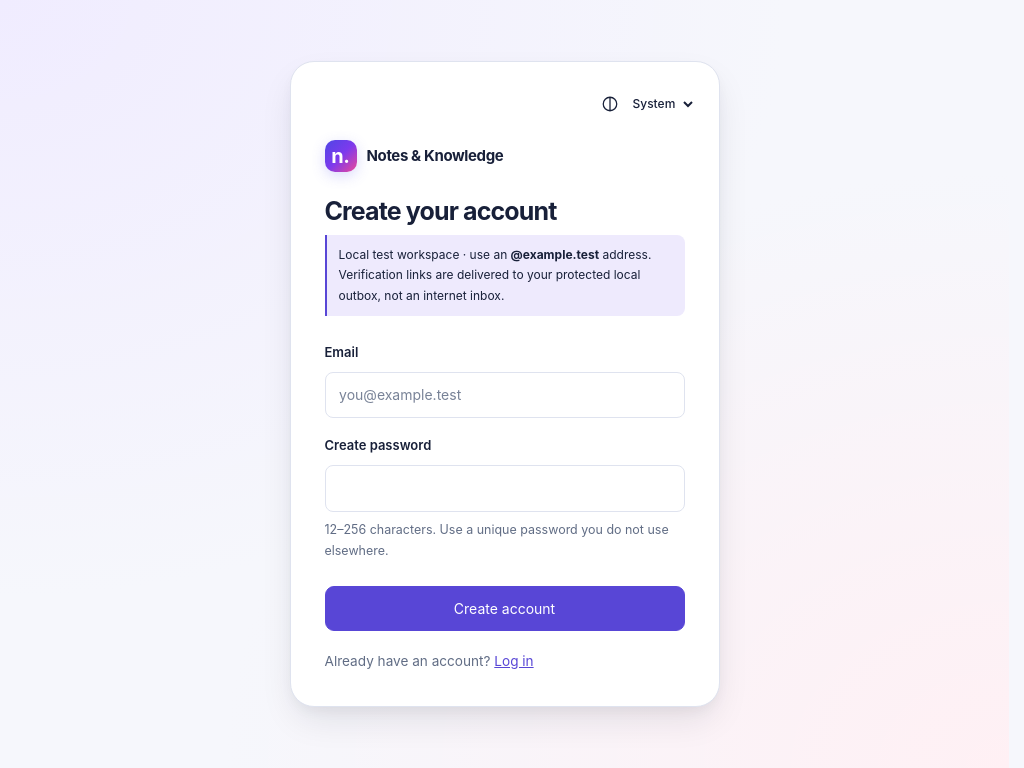
authentication browser journey › rejects unsupported local delivery addresses before blind acceptance and keeps valid local acceptance generic
Expected: the heading "Create your account" is shown, [324,196,556,226]
Type "person@example.org" into the field labelled "Email" at x=504, y=395, box [324,372,684,418]
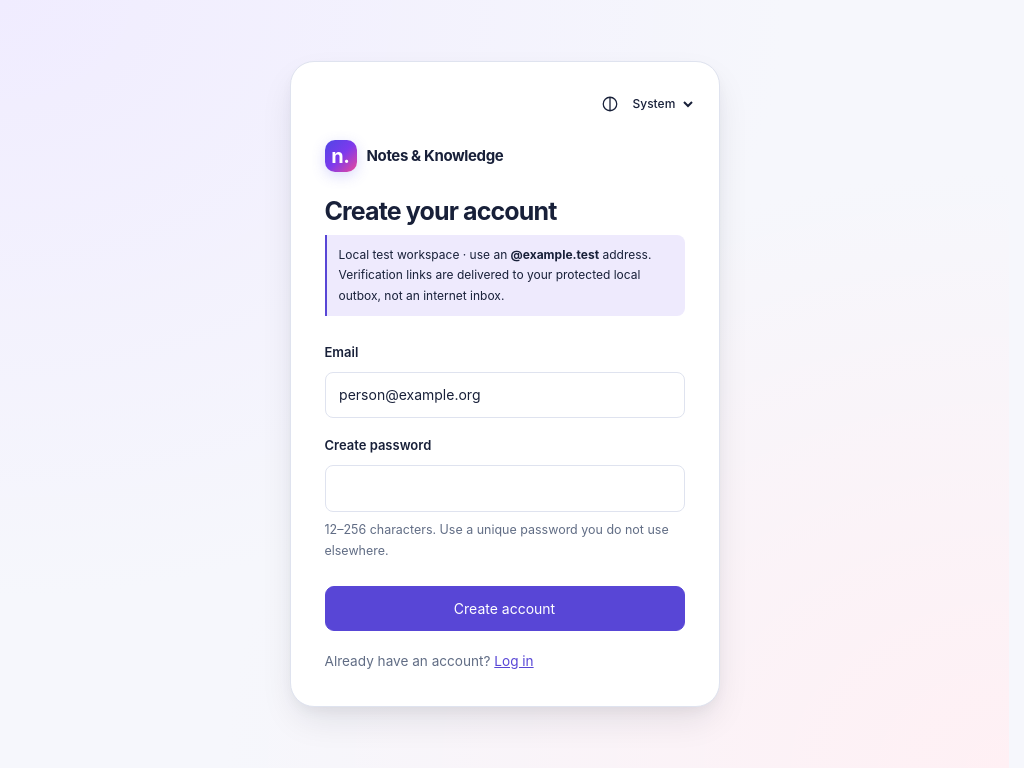
Type "Synthetic-password-123!" into the password field labelled "Create password" at x=504, y=488, box [324,465,684,512]
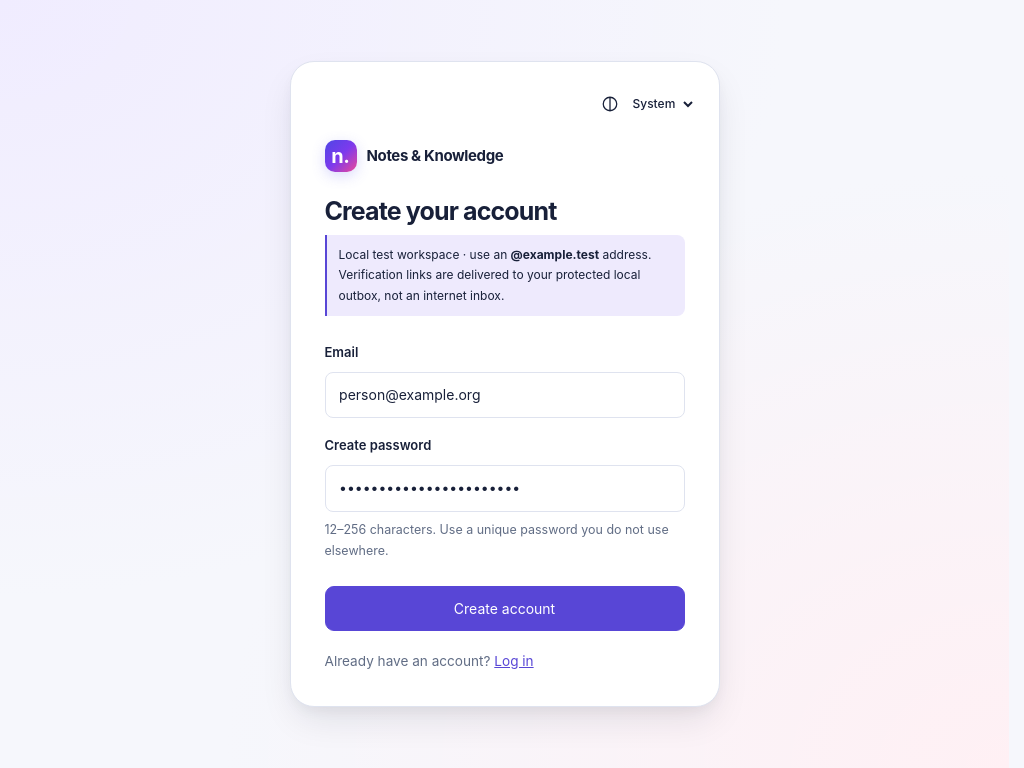
Click the button "Create account" at x=504, y=609, box [324,586,684,632]
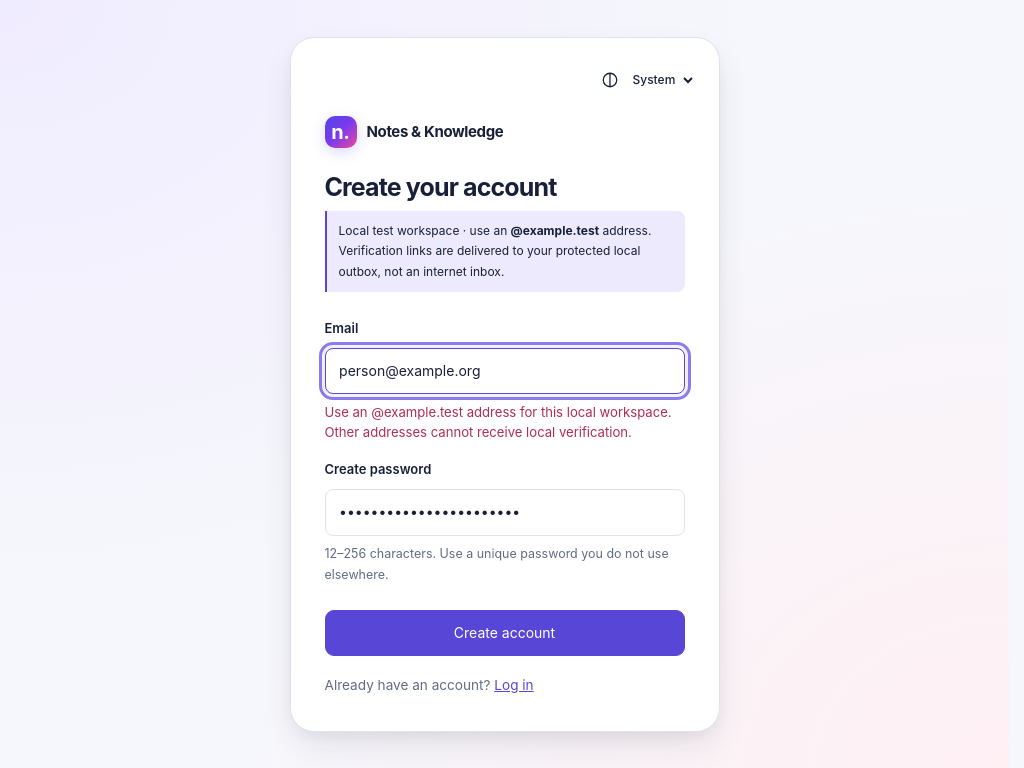
Expected: the text "Other addresses cannot receive local verification" is shown, [324,404,672,440]
Replace the text in the field labelled "Email" with "person@example.test" at x=504, y=371, box [324,348,684,394]
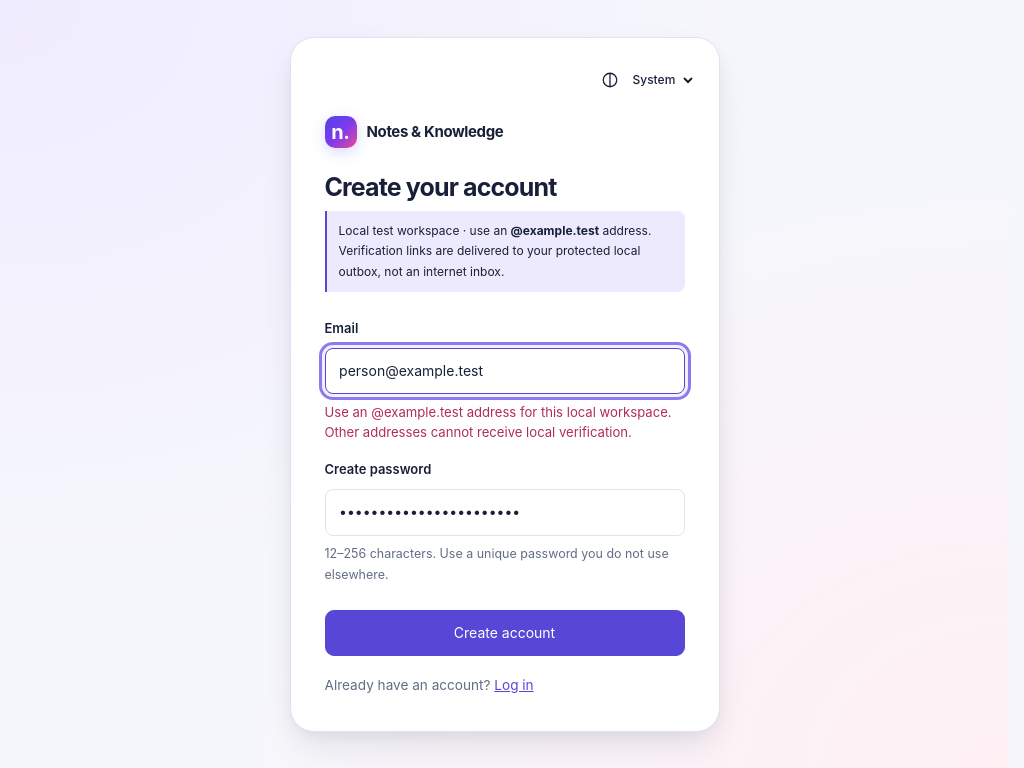
Click the button "Create account" at x=504, y=633, box [324,610,684,656]
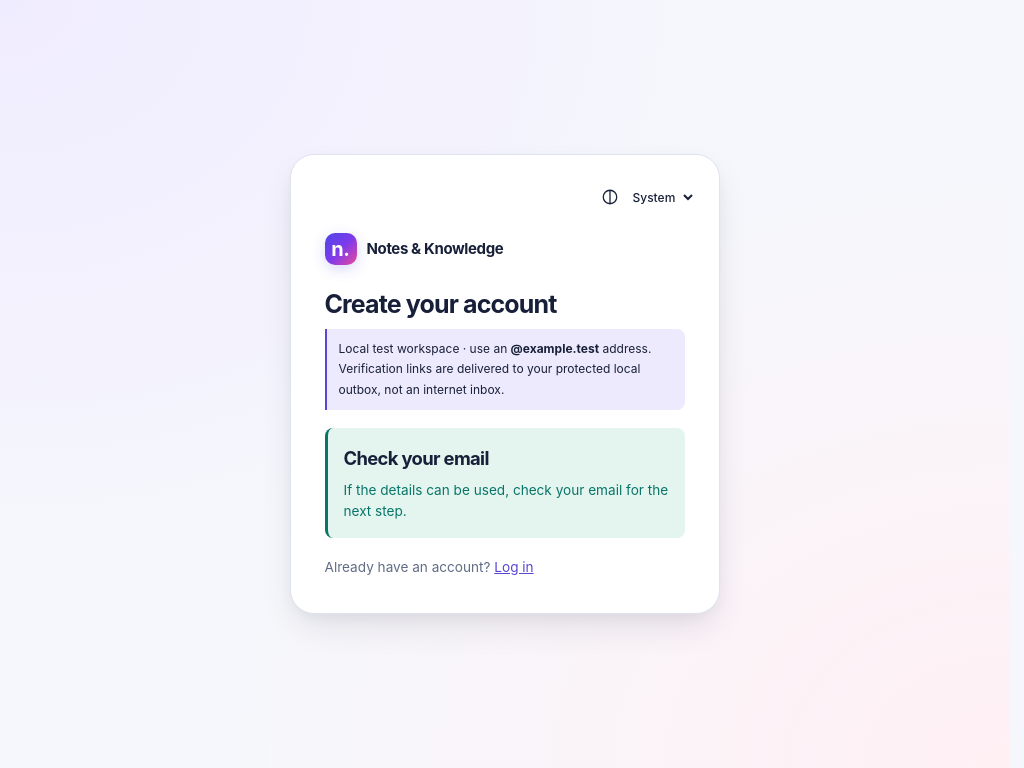
Expected: the text "If the details can be used" is shown, [344,482,668,520]
